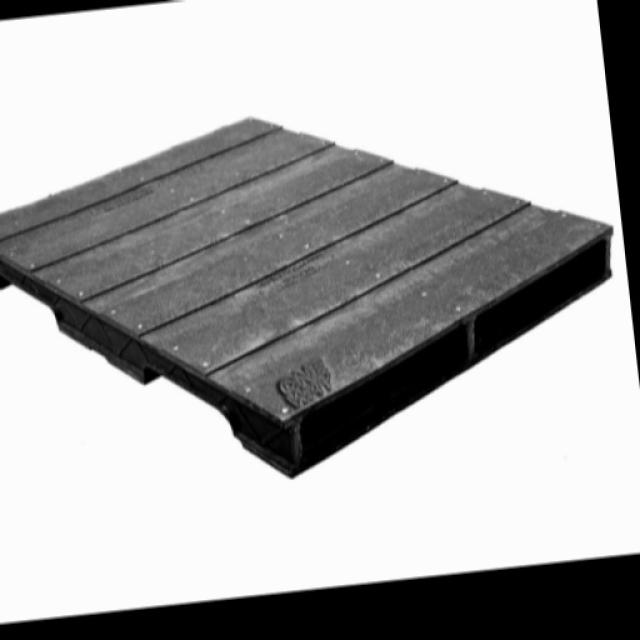non-igps: (0, 107, 619, 485)
